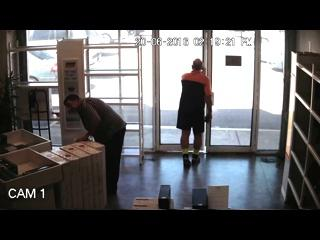Normal: (63, 94, 127, 196), (176, 58, 212, 167)
